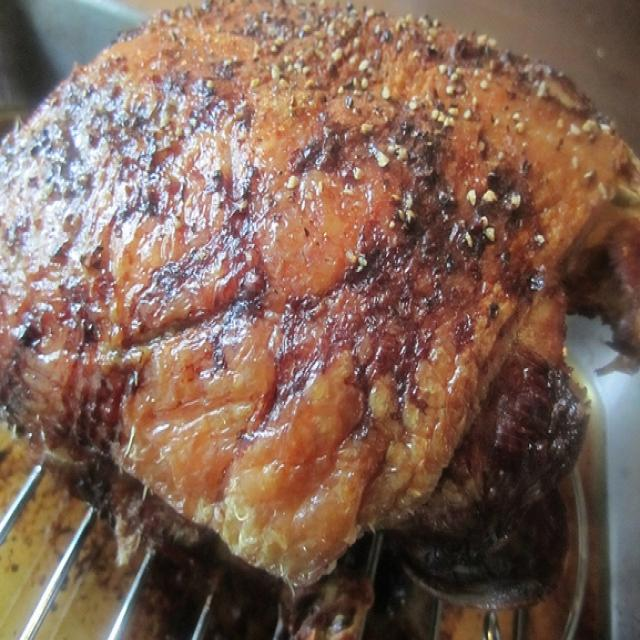烧串烤肉: (8, 4, 636, 604)
